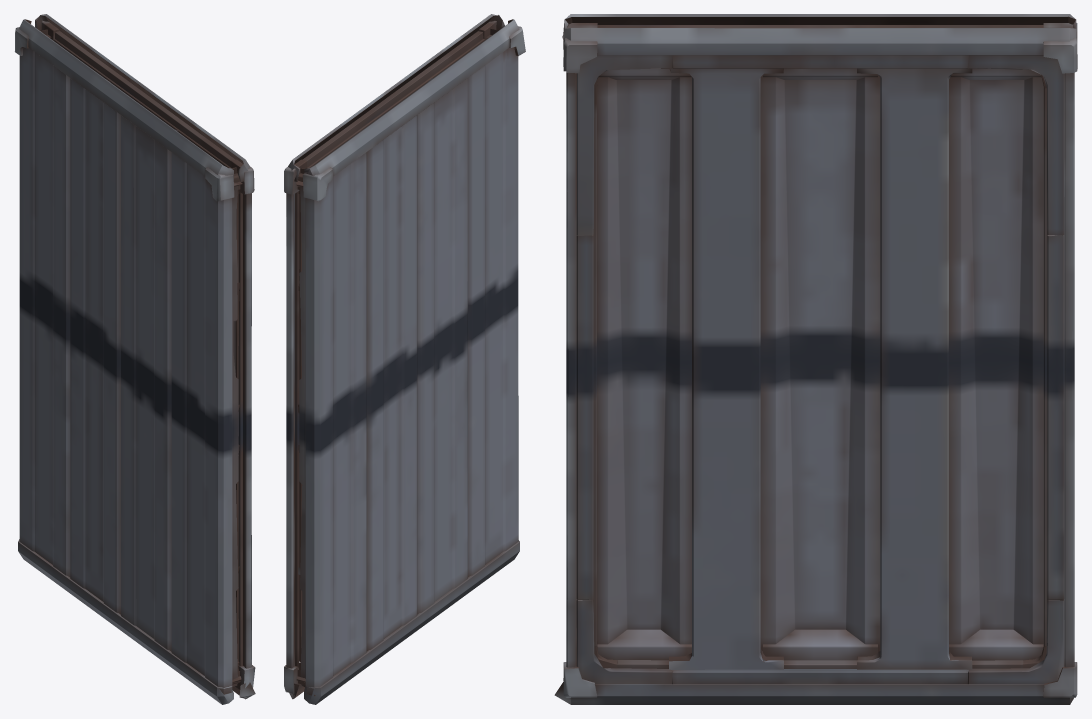
File: MetalRoof_SM_C.glb
3 renders of one model, left to right at view 1: azimuth 30°, elevation 25°; view 2: azimuth 150°, elevation 25°; view 3: azimuth 270°, elevation 25°, orthographic. The views are drawn at different scales.
Parts seen in each view (by area): view 1: SM_Metal_RoofSquare; view 2: SM_Metal_RoofSquare; view 3: SM_Metal_RoofSquare.
Boxes of the visible parts, left/top/right/bottom form: SM_Metal_RoofSquare: left=14, top=14, right=255, bottom=704; SM_Metal_RoofSquare: left=284, top=14, right=525, bottom=704; SM_Metal_RoofSquare: left=554, top=14, right=1077, bottom=704.
Size of the model in its own units: 0.3323 by 4.41 by 3.09.
Materials: 1 (1 with a texture image).
